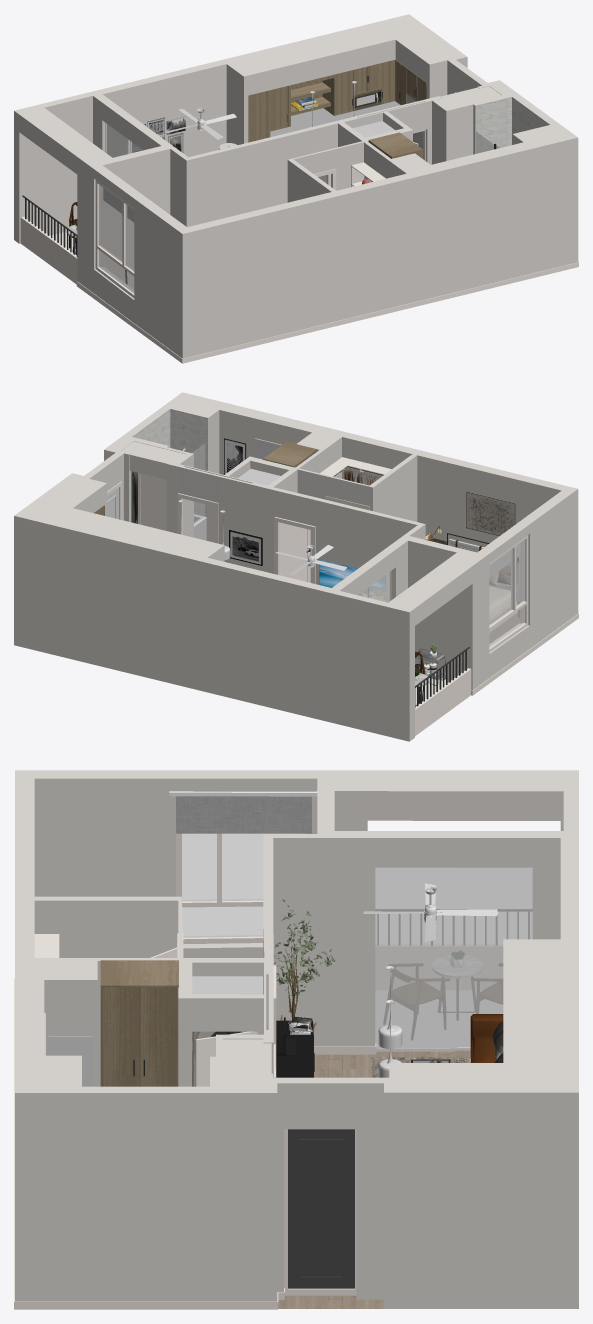
Rendered from 1bed_glb_with_audio.glb.
3 views of the same model, one above another, from view 1: azimuth 30°, elevation 25°; view 2: azimuth 150°, elevation 25°; view 3: azimuth 270°, elevation 25° (orthographic). The views are drawn at different scales.
Visible parts, largest first — view 1: Cube_002, Cube_016, Cube_058, Cube_093, Cube_079, Cube, Cube_032, Cube_043, Cube_092, Cube_022, Cube_087, Tybault_52in_1_32m__Ceiling_Fan_001; view 2: Cube_002, Cube_093, Cube_079, Plane_020, Cube, Cube_040, Cube_032, Cube_091, Plane_036, Cube_085, Cube_092, Plane_028 (+8 smaller); view 3: Cube_002, Cube_087, Cube_044.001, Cube_092, Cube_093, Plane_029, Plane_019, Plane, Cube, Cube_058, Cube_003, Cube_032 (+10 smaller).
Part boxes in pixels (x1=…): Cube_002: x1=14, y1=14, x2=578, y2=358; Cube_016: x1=248, y1=59, x2=426, y2=142; Cube_058: x1=76, y1=262, x2=578, y2=363; Cube_093: x1=99, y1=185, x2=134, y2=292; Cube_079: x1=475, y1=97, x2=549, y2=153; Cube: x1=20, y1=216, x2=77, y2=284; Cube_032: x1=95, y1=180, x2=134, y2=297; Cube_043: x1=270, y1=101, x2=400, y2=137; Cube_092: x1=368, y1=132, x2=422, y2=158; Cube_022: x1=25, y1=199, x2=77, y2=256; Cube_087: x1=107, y1=124, x2=142, y2=157; Tybault_52in_1_32m__Ceiling_Fan_001: x1=165, y1=108, x2=236, y2=139; Cube_002: x1=14, y1=392, x2=578, y2=741; Cube_093: x1=489, y1=540, x2=524, y2=647; Cube_079: x1=132, y1=409, x2=207, y2=518; Plane_020: x1=465, y1=491, x2=515, y2=536; Cube: x1=415, y1=668, x2=471, y2=735; Cube_040: x1=279, y1=522, x2=310, y2=582; Cube_032: x1=489, y1=535, x2=528, y2=652; Cube_091: x1=140, y1=474, x2=166, y2=530; Plane_036: x1=229, y1=530, x2=262, y2=565; Cube_085: x1=319, y1=559, x2=385, y2=600; Cube_092: x1=263, y1=441, x2=317, y2=467; Plane_028: x1=489, y1=582, x2=519, y2=624; Cube_002: x1=15, y1=770, x2=578, y2=1308; Cube_087: x1=378, y1=867, x2=529, y2=1048; Cube_044.001: x1=288, y1=1129, x2=354, y2=1288; Cube_092: x1=100, y1=960, x2=178, y2=1086; Cube_093: x1=182, y1=833, x2=305, y2=937; Plane_029: x1=169, y1=791, x2=317, y2=833; Plane_019: x1=376, y1=991, x2=502, y2=1047; Plane: x1=278, y1=1049, x2=470, y2=1308; Cube: x1=376, y1=944, x2=502, y2=989; Cube_058: x1=14, y1=978, x2=376, y2=1309; Cube_003: x1=375, y1=867, x2=532, y2=1051; Cube_032: x1=176, y1=833, x2=311, y2=944.
Size of what is drawn, in the model's own units: 1.2 by 0.3819 by 0.8872.
Materials: 110 (56 with a texture image).
